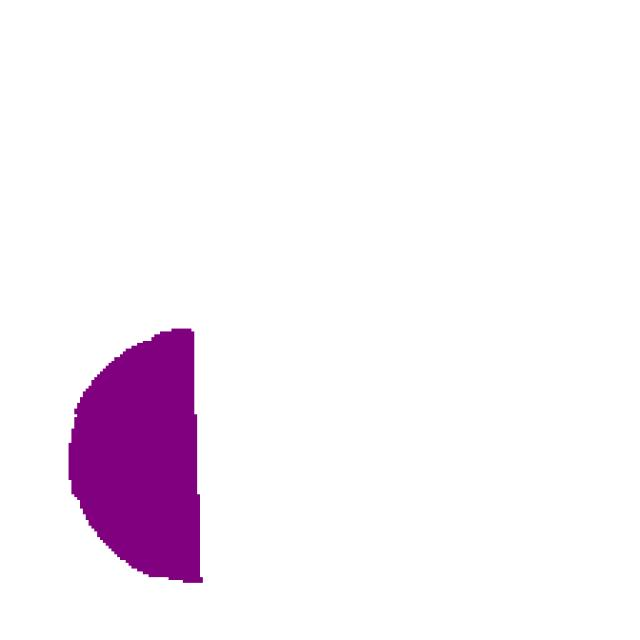Semicircle: (60, 280, 266, 601)
